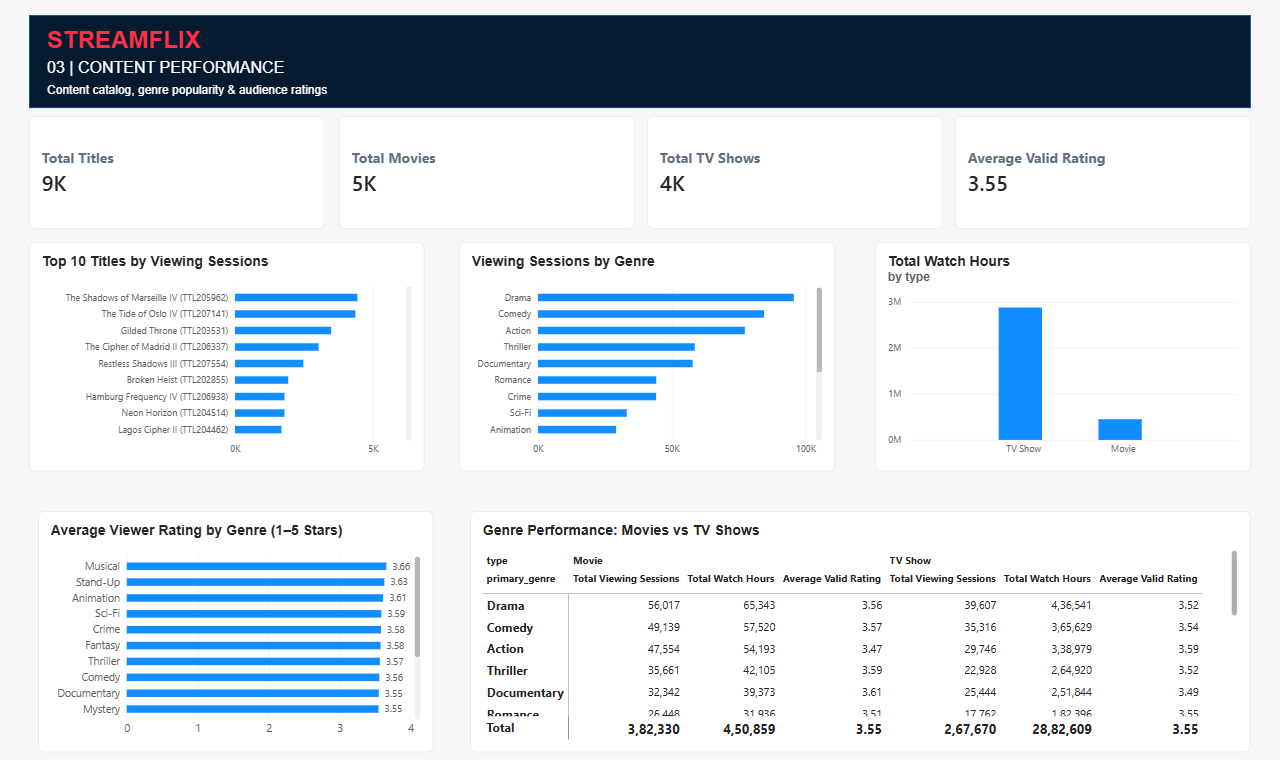

This screenshot's page, from the dashboard's own definition file:
{"tool":"powerbi","page":{"name":"03 Content Performance","canvas":[1920,1080],"ordinal":2},"visuals":[{"type":"clusteredBarChart","title":"Top 10 Titles by Viewing Sessions","fields":{"Category":["titles.Title Display"],"Y":["_Measures.Total Viewing Sessions"]},"box":[79.6,328.6,526.3,305.3],"z":1000},{"type":"clusteredBarChart","title":"Viewing Sessions by Genre","fields":{"Category":["titles.primary_genre"],"Y":["_Measures.Total Viewing Sessions"]},"box":[651.3,328.6,500,305.3],"z":2000},{"type":"clusteredColumnChart","fields":{"Category":["titles.type"],"Y":["_Measures.Total Watch Hours"]},"box":[1205.3,328.6,500,305.3],"z":3000},{"type":"clusteredBarChart","title":"Average Viewer Rating by Genre (1–5 Stars)","fields":{"Category":["titles.primary_genre"],"Y":["_Measures.Average Valid Rating"]},"box":[91.4,686.7,525.7,321.4],"z":4000},{"type":"pivotTable","title":"Genre Performance: Movies vs TV Shows","fields":{"Columns":["titles.type"],"Rows":["titles.primary_genre"],"Values":["_Measures.Total Viewing Sessions","_Measures.Total Watch Hours","_Measures.Average Valid Rating"]},"box":[666,686.7,1038.2,321.1],"z":5000},{"type":"cardVisual","fields":{"Data":["_Measures.Total Titles"]},"box":[79.6,160.6,393.4,150.3],"z":5001},{"type":"cardVisual","fields":{"Data":["_Measures.Total Movies"]},"box":[492.2,160.6,393.4,150.3],"z":5002},{"type":"cardVisual","fields":{"Data":["_Measures.Total TV Shows"]},"box":[901.8,160.6,393.4,150.3],"z":5003},{"type":"cardVisual","fields":{"Data":["_Measures.Average Valid Rating"]},"box":[1311.4,160.6,393.4,150.3],"z":5004},{"type":"shape","box":[79.6,26.5,1625.3,123.8],"z":5005},{"type":"textbox","box":[103.1,41.3,346.3,150.3],"z":5006},{"type":"textbox","box":[103.1,85.5,377.2,148.8],"z":5007},{"type":"textbox","box":[103.1,116.4,430.3,197.5],"z":5008}]}

Visuals, with their boxes on the page's 1920x1080 design canvas (x1, y1, x2, y2). These are canvas units, not pixel positions in the 1280x760 screenshot, which may show the page scaled, cropped or inside an application window:
"Top 10 Titles by Viewing Sessions" clusteredBarChart: 80:329:606:634
"Viewing Sessions by Genre" clusteredBarChart: 651:329:1151:634
clusteredColumnChart - titles.type x _Measures.Total Watch Hours: 1205:329:1705:634
"Average Viewer Rating by Genre (1–5 Stars)" clusteredBarChart: 91:687:617:1008
"Genre Performance: Movies vs TV Shows" pivotTable: 666:687:1704:1008
cardVisual - _Measures.Total Titles: 80:161:473:311
cardVisual - _Measures.Total Movies: 492:161:886:311
cardVisual - _Measures.Total TV Shows: 902:161:1295:311
cardVisual - _Measures.Average Valid Rating: 1311:161:1705:311
shape: 80:26:1705:150
textbox: 103:41:449:192
textbox: 103:86:480:234
textbox: 103:116:533:314
